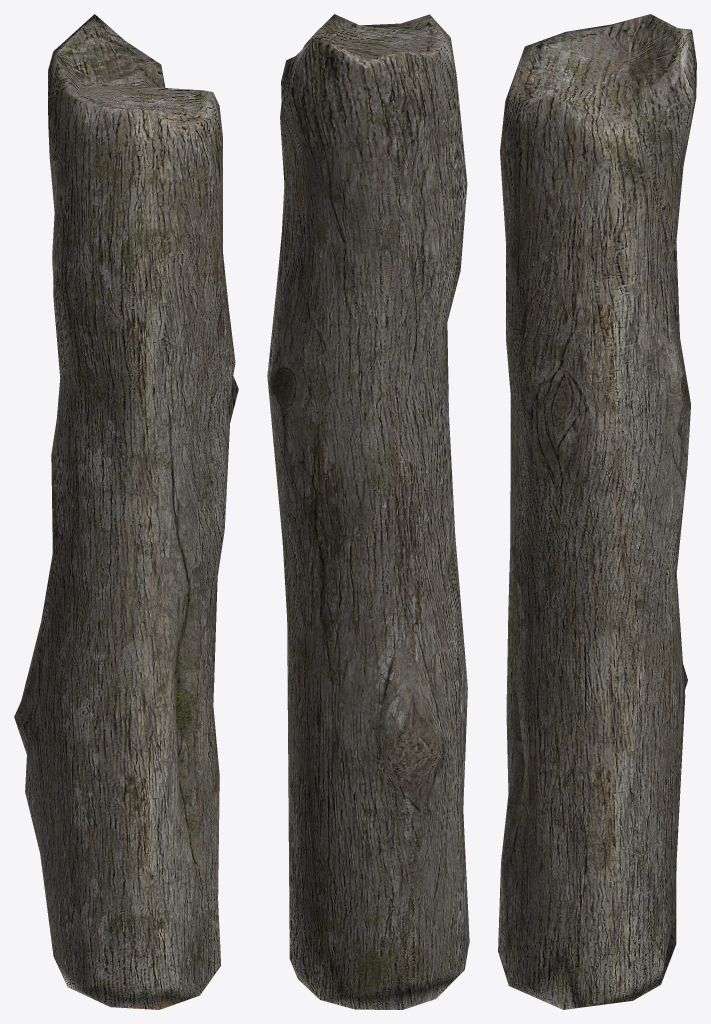
File: SM_ShortPostfbx_2.fbx
The picture shows the model from 3 angles, left to right: view 1: azimuth 30°, elevation 25°; view 2: azimuth 150°, elevation 25°; view 3: azimuth 270°, elevation 25°; orthographic projection. The views are drawn at different scales.
Visible parts, largest first — view 1: SM_ShortPostfbx_2_LOD0; view 2: SM_ShortPostfbx_2_LOD0; view 3: SM_ShortPostfbx_2_LOD0.
Boxes of the visible parts, x1,y1,x2,y2 form: SM_ShortPostfbx_2_LOD0: [14, 14, 238, 1009]; SM_ShortPostfbx_2_LOD0: [267, 14, 469, 1009]; SM_ShortPostfbx_2_LOD0: [498, 14, 696, 1009].
Bounding box in the file's own units: 18.88 × 17.94 × 94.77.
